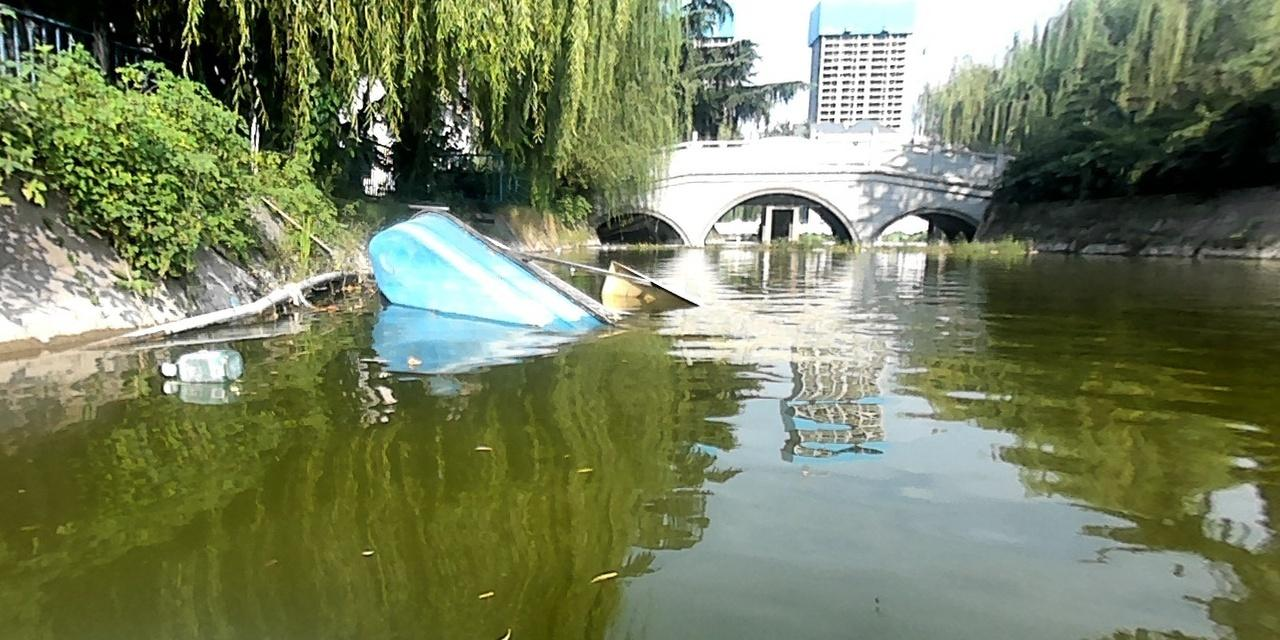bottle: (158, 346, 242, 383)
